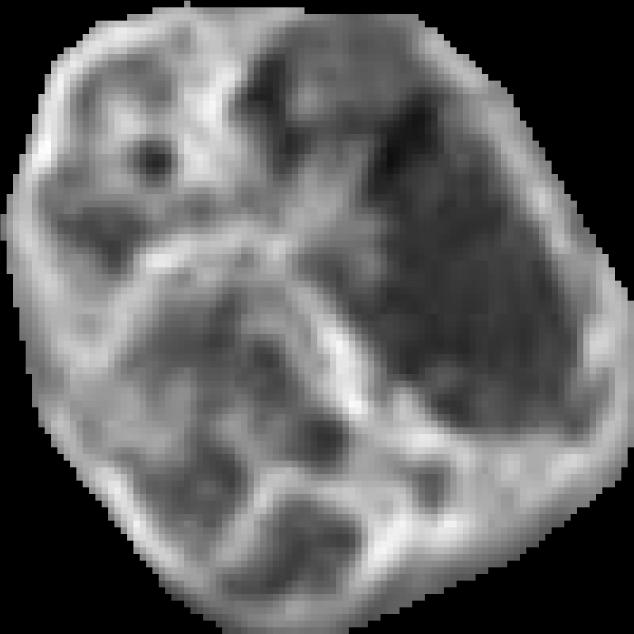tumor_good_chance: (0, 1, 634, 634)
